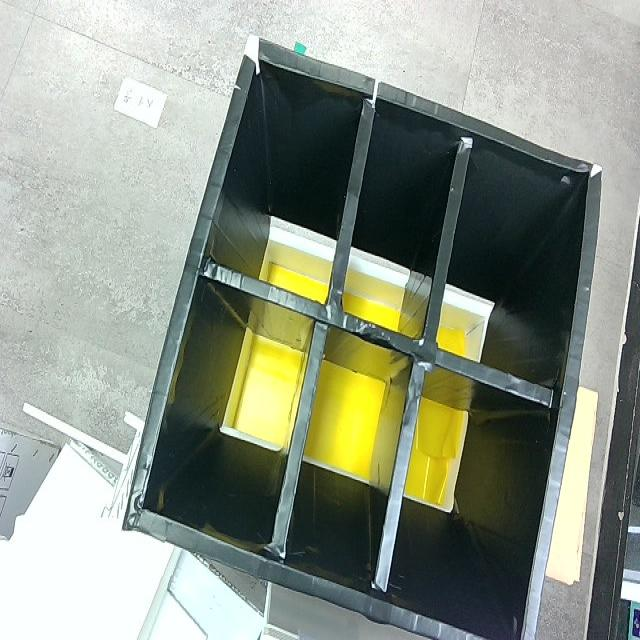box: (116, 26, 607, 640)
